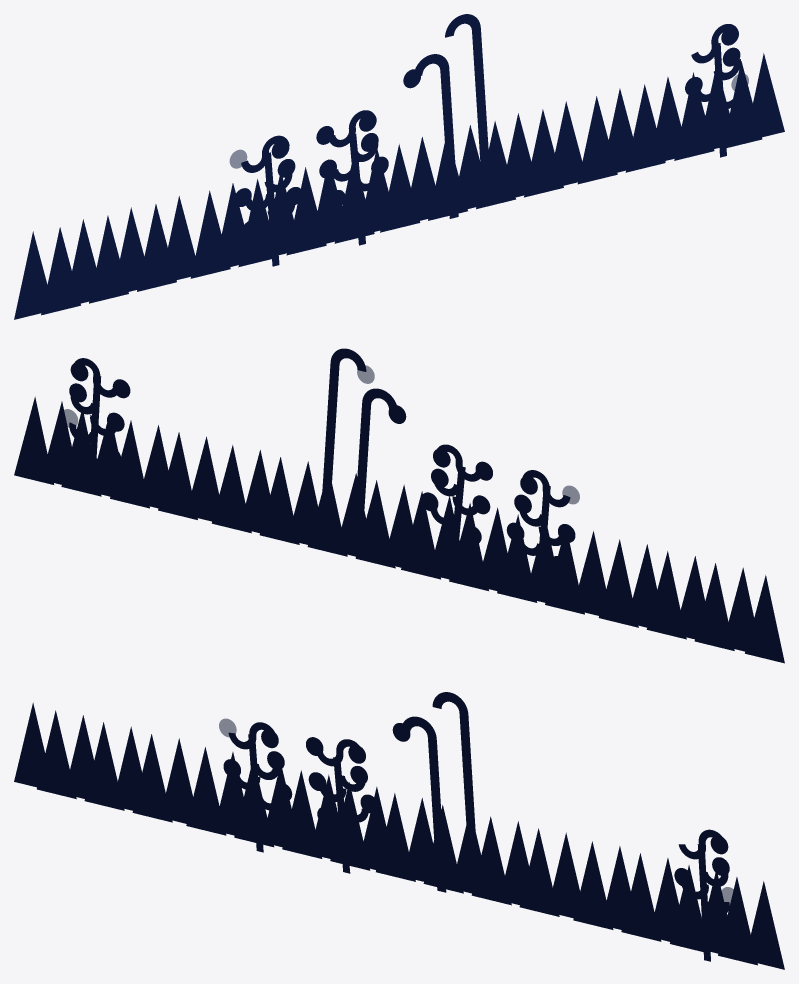
Rendered from herbe.gltf.
The picture shows the model from 3 angles, top to bottom: view 1: azimuth 30°, elevation 25°; view 2: azimuth 150°, elevation 25°; view 3: azimuth 330°, elevation 25°; orthographic projection.
Visible parts, largest first — view 1: Curve; view 2: Curve; view 3: Curve.
Part boxes in pixels (x1=…): Curve: x1=14, y1=14, x2=784, y2=319; Curve: x1=14, y1=348, x2=784, y2=663; Curve: x1=14, y1=692, x2=784, y2=969.
Bounding box in the file's own units: 0.1405 × 0.0355 × 0.00251.
